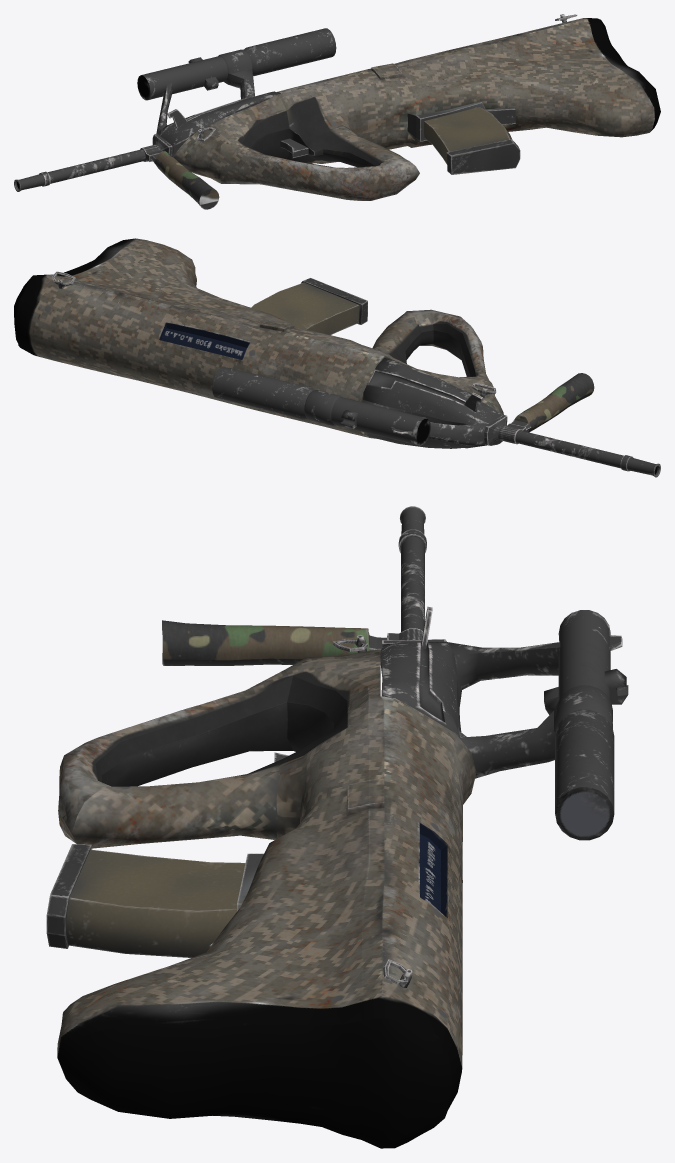
Rendered from aug.fbx.
The picture shows the model from 3 angles, top to bottom: view 1: azimuth 30°, elevation 25°; view 2: azimuth 150°, elevation 25°; view 3: azimuth 270°, elevation 25°; orthographic projection. The views are drawn at different scales.
Visible parts, largest first — view 1: Aug; view 2: Aug; view 3: Aug.
Part boxes in pixels (box(x1,y1,x2,y2)): Aug: box(14, 14, 660, 209); Aug: box(14, 238, 660, 477); Aug: box(46, 506, 628, 1148).
Size of the model in its own units: 356 by 46.9 by 154.
